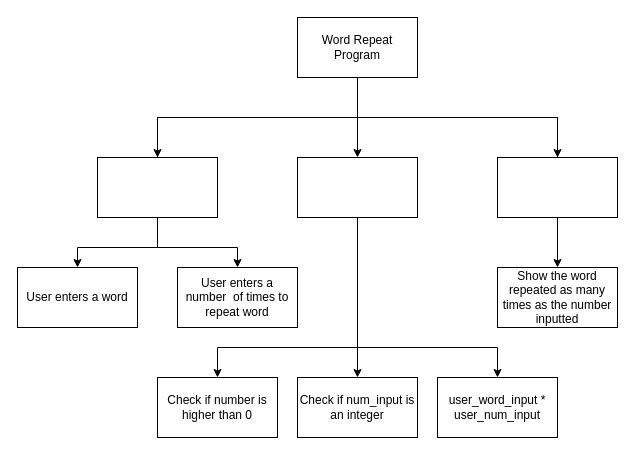
Image size: 635x455. Some labels were removed from this diagram. Here are the shapes that lost their labels. From the top down, the centre of each, then its label:
point 157,187: Input
point 357,187: Process
point 557,187: Output
